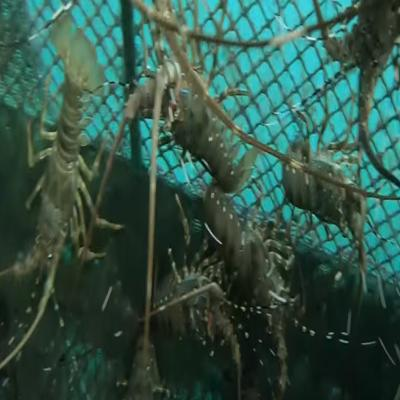lobster: (37, 59, 89, 283), (160, 63, 234, 193), (209, 188, 284, 312), (283, 143, 363, 241), (336, 2, 400, 94), (154, 280, 226, 354)
